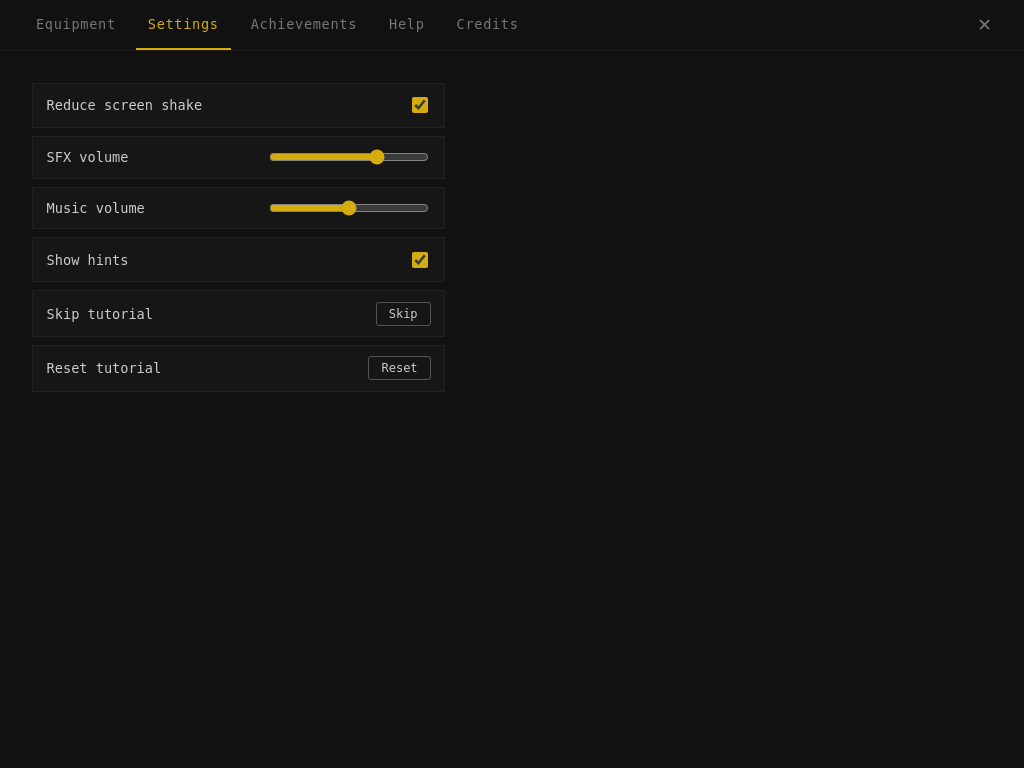
CharacterScreen › hints › the reset button makes the hints show again and says it is done
Click the button with class "reset-tutorial-btn". click: (400, 368)
box: [368,356,431,380]
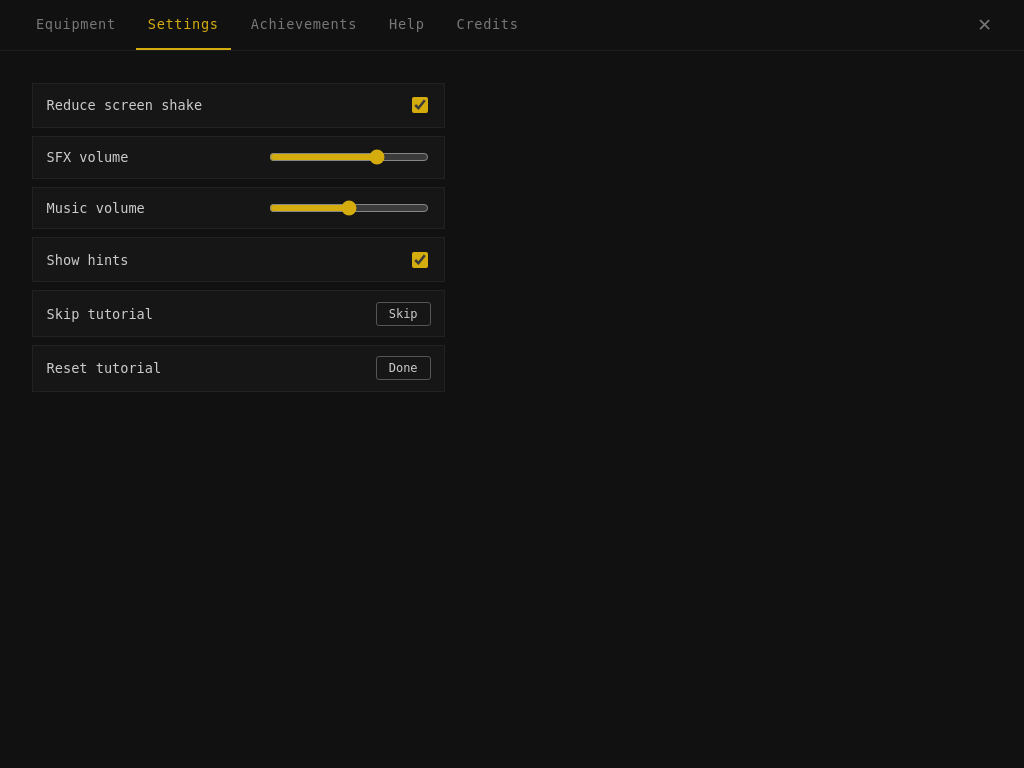
expect the button with class "reset-tutorial-btn" reads "Done": met, box [376,356,431,380]
